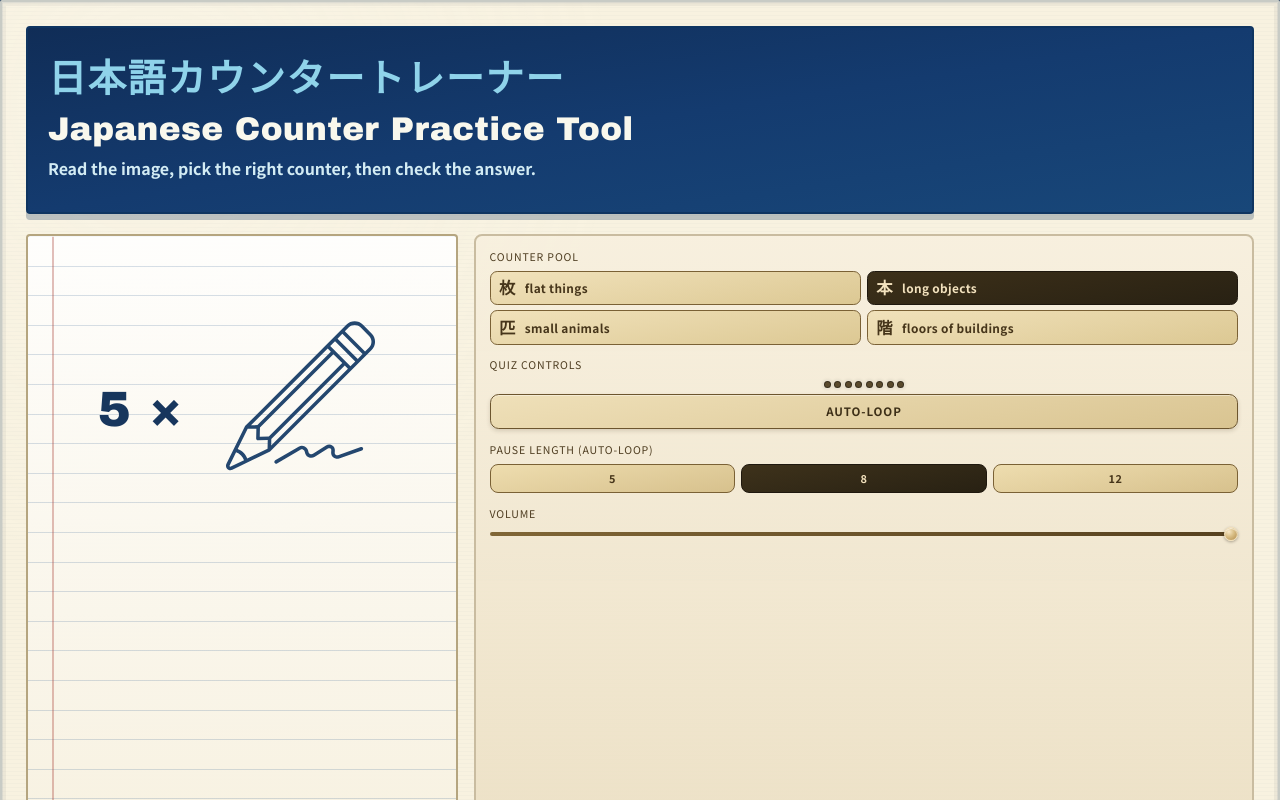
Test: JapaneseCounterPracticeToolPage › reveals immediately on first power-on and waits timer on later power-ons
The width and height of the screenshot is (1280, 800).
expect the text "五本" is not shown: met
Click the button "Auto-Loop".
click(864, 412)  # box x1=490 y1=394 x2=1238 y2=429
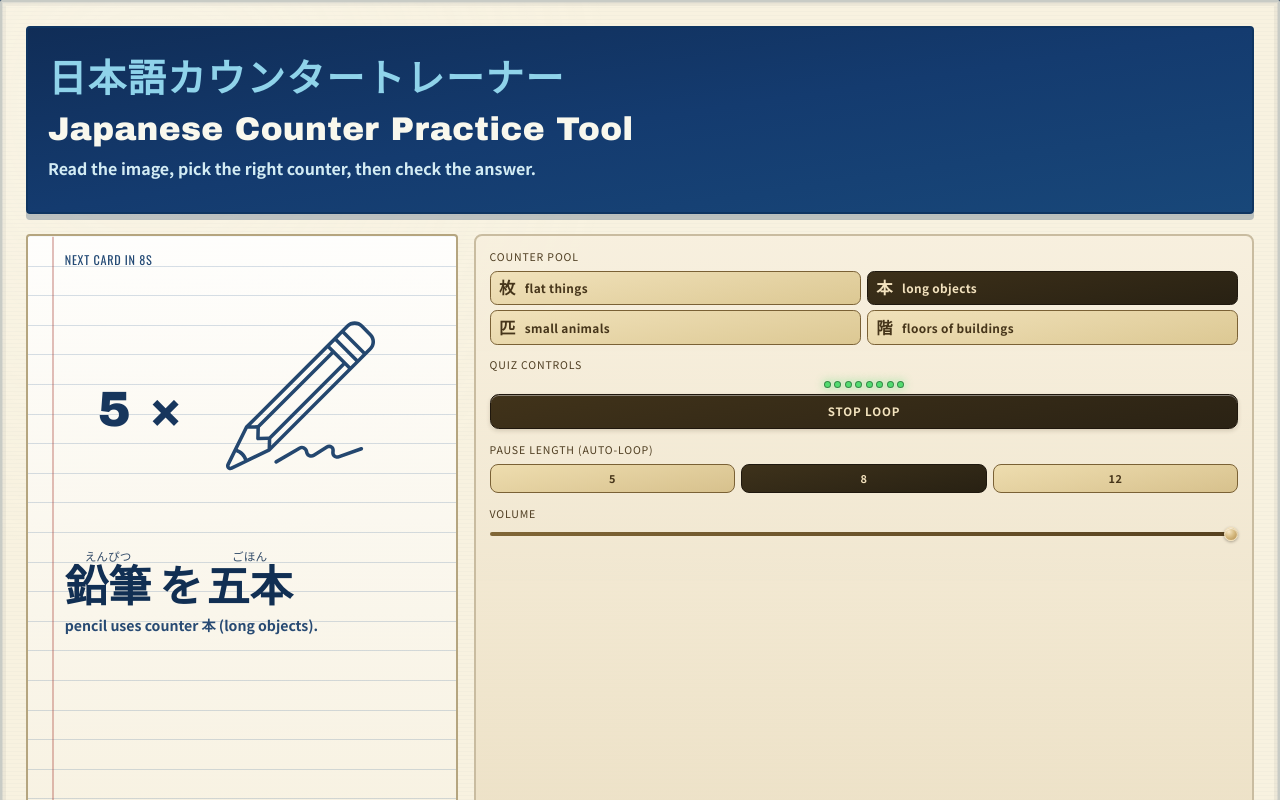
expect the text "五本" is shown: met, box x1=206 y1=552 x2=293 y2=614
Click the button "Stop Loop".
click(864, 412)  # box x1=490 y1=394 x2=1238 y2=429
(page scrolled)
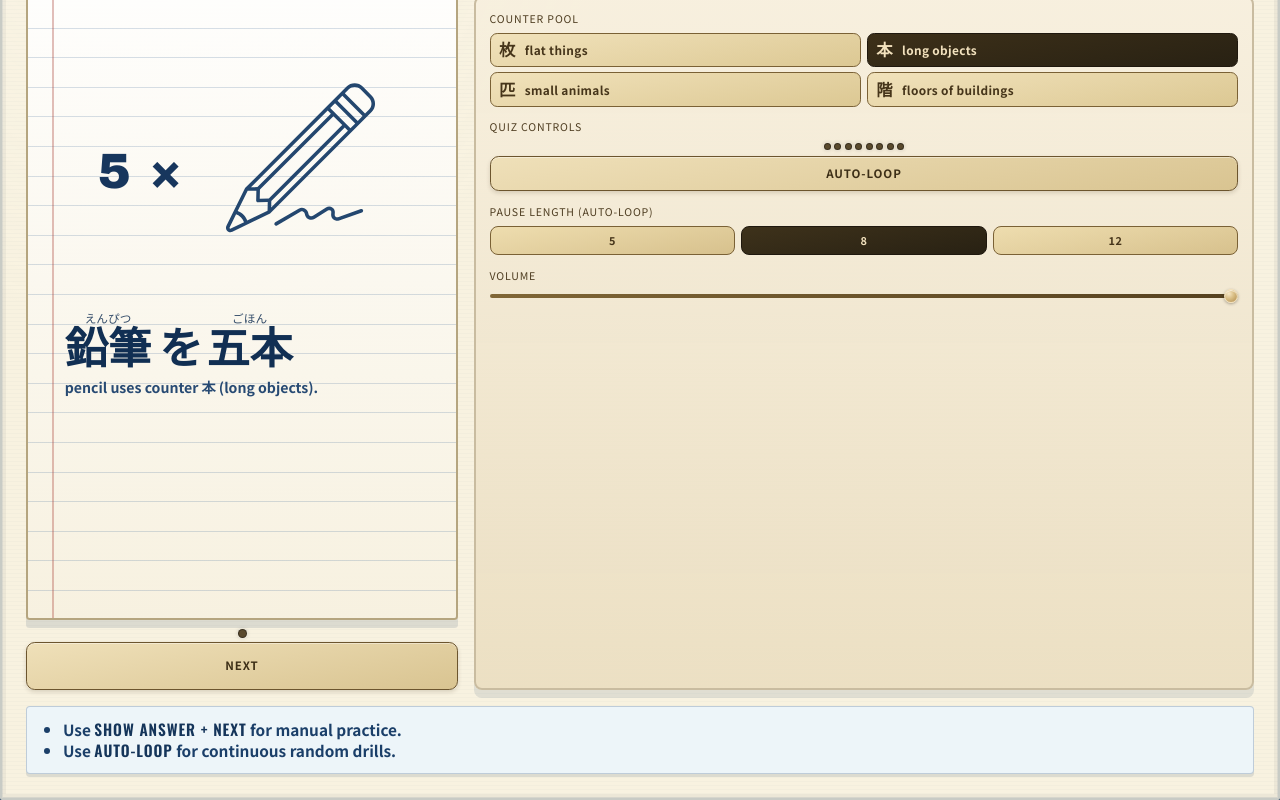
Click the button with aria-label "advance to the next item".
click(242, 666)  # box x1=26 y1=642 x2=458 y2=690
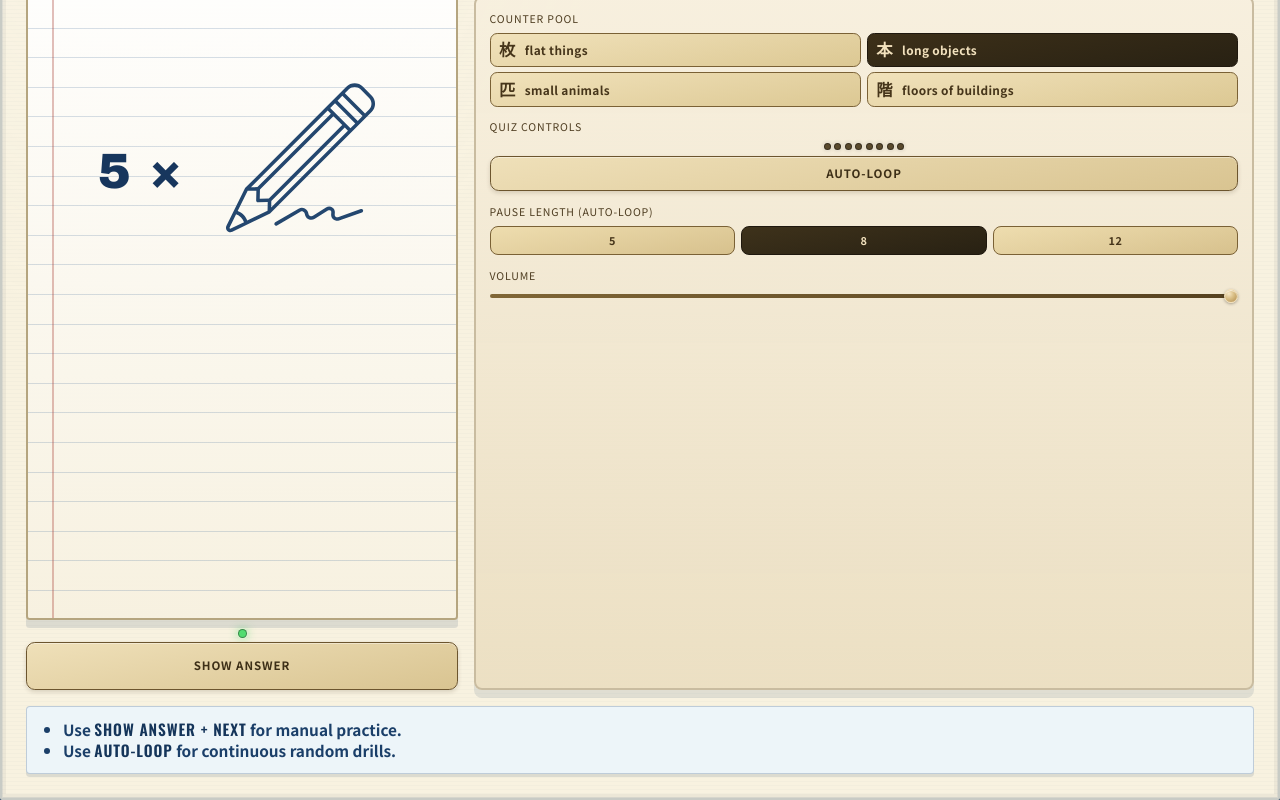
expect the text "五本" is gone: met
Click the button "Auto-Loop".
click(864, 174)  # box x1=490 y1=156 x2=1238 y2=191
Wait 8000 ms
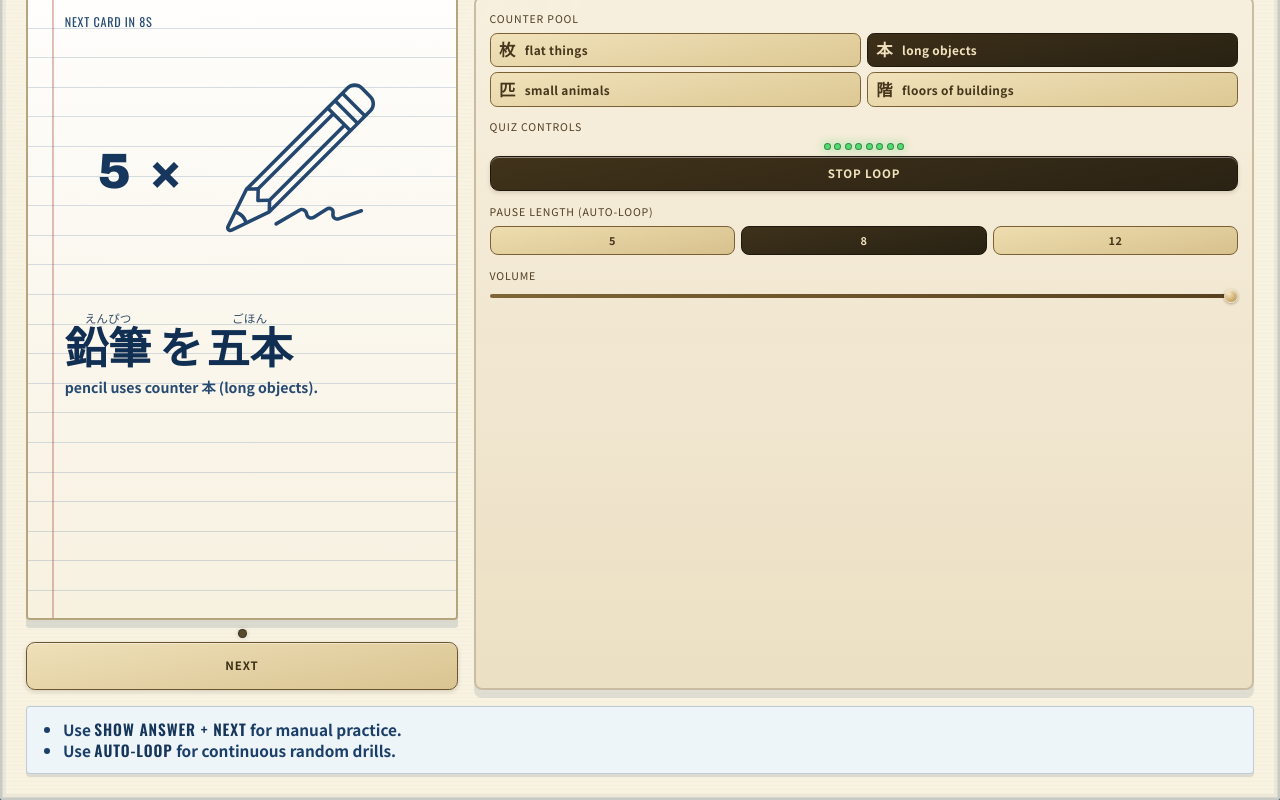
expect the text "五本" is shown: met, box x1=206 y1=314 x2=293 y2=376
